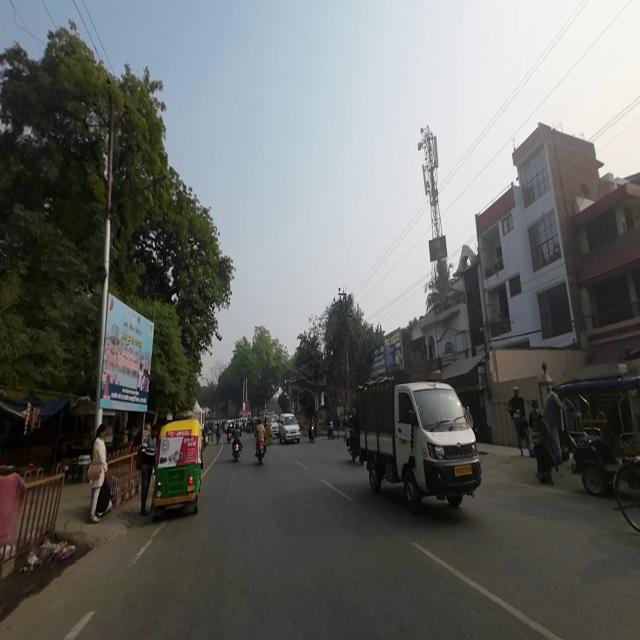Garbage: (38, 534, 79, 563)
